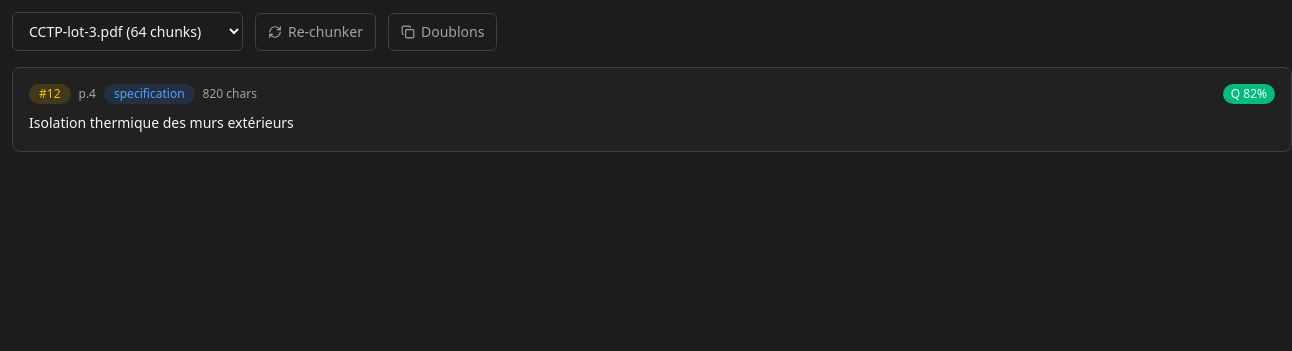
DocumentChunkView — a failed document load says so, and keeps the picker › drops the previous re-chunk report when a second attempt fails, instead of showing both
The image size is (1292, 351).
Step 1. Click the button "Re-chunker" → (316, 32), box [255, 12, 376, 50]
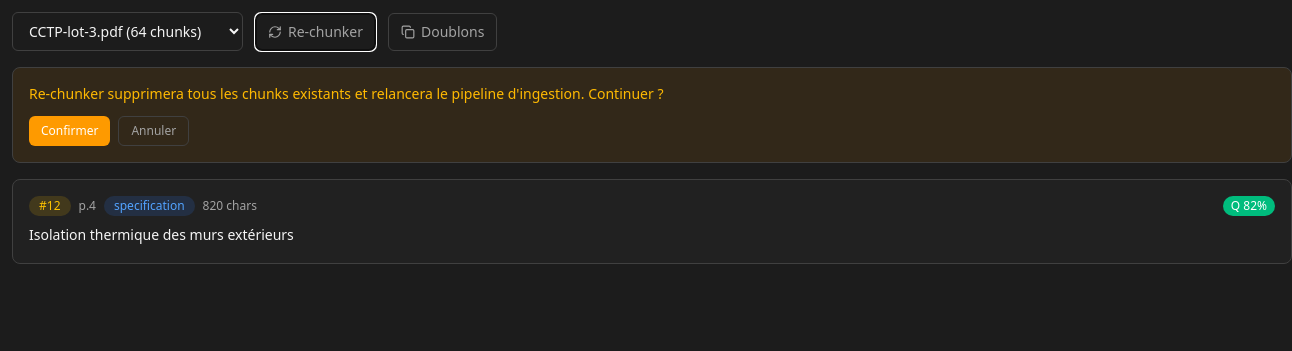
Step 2. Click the button "Confirmer" → (70, 131), box [29, 116, 110, 146]
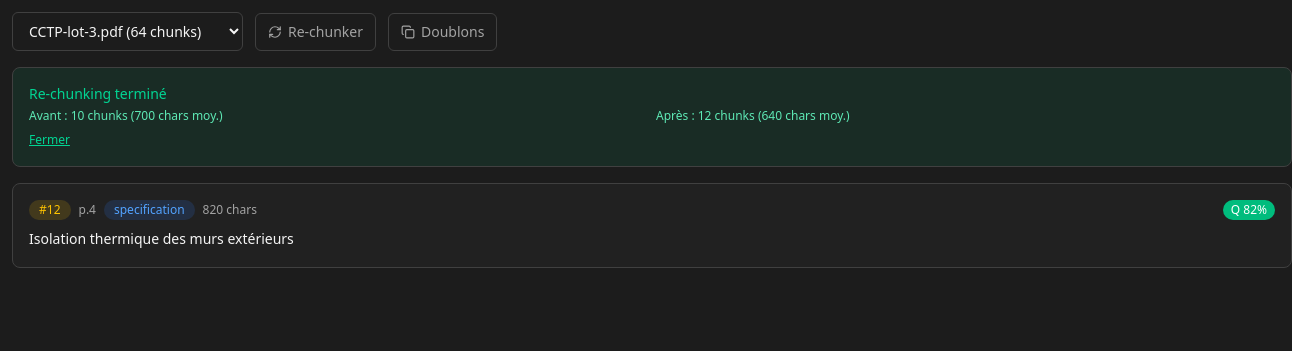
Result: the text "Re-chunking terminé" is shown at [29, 84, 167, 103]
Step 3. Click the button "Re-chunker" → (316, 32), box [255, 12, 376, 50]
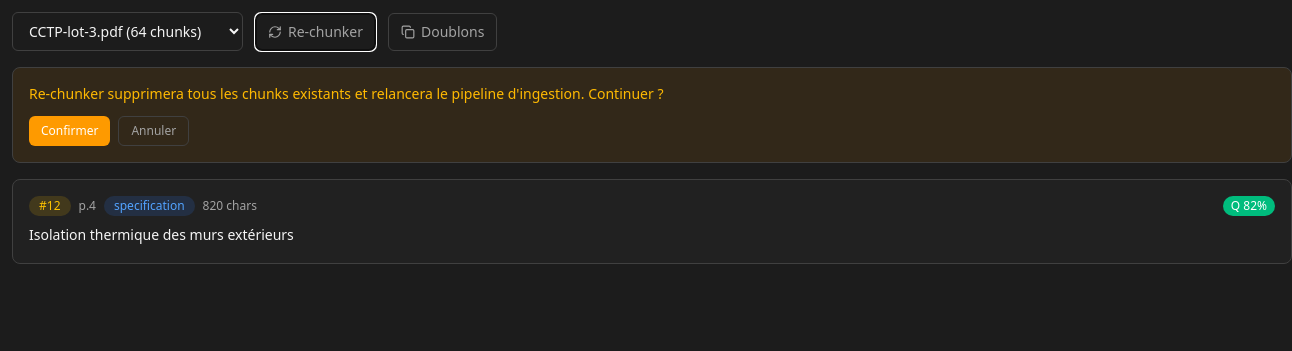
Step 4. Click the button "Confirmer" → (70, 131), box [29, 116, 110, 146]
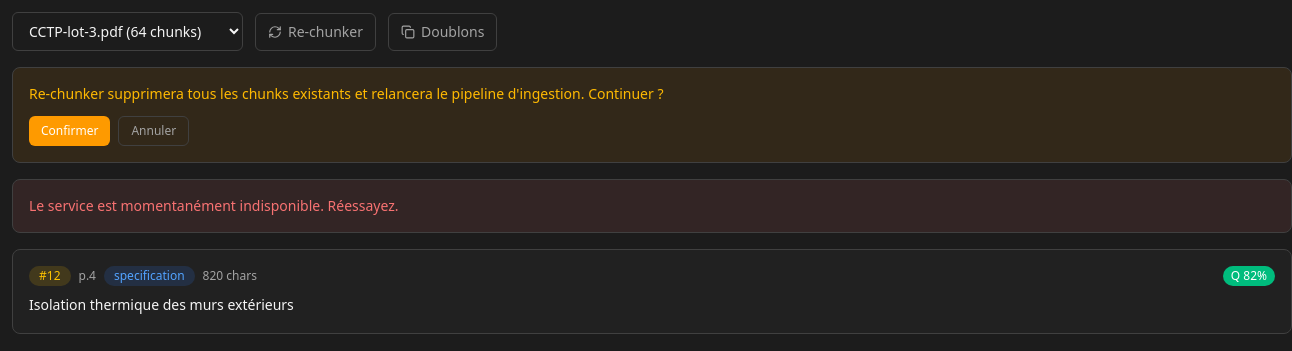
Expected: the text "Re-chunking terminé" is not shown
Result: the message "Le service est momentanément indisponible. Réessayez." is shown at [12, 179, 1291, 233]
